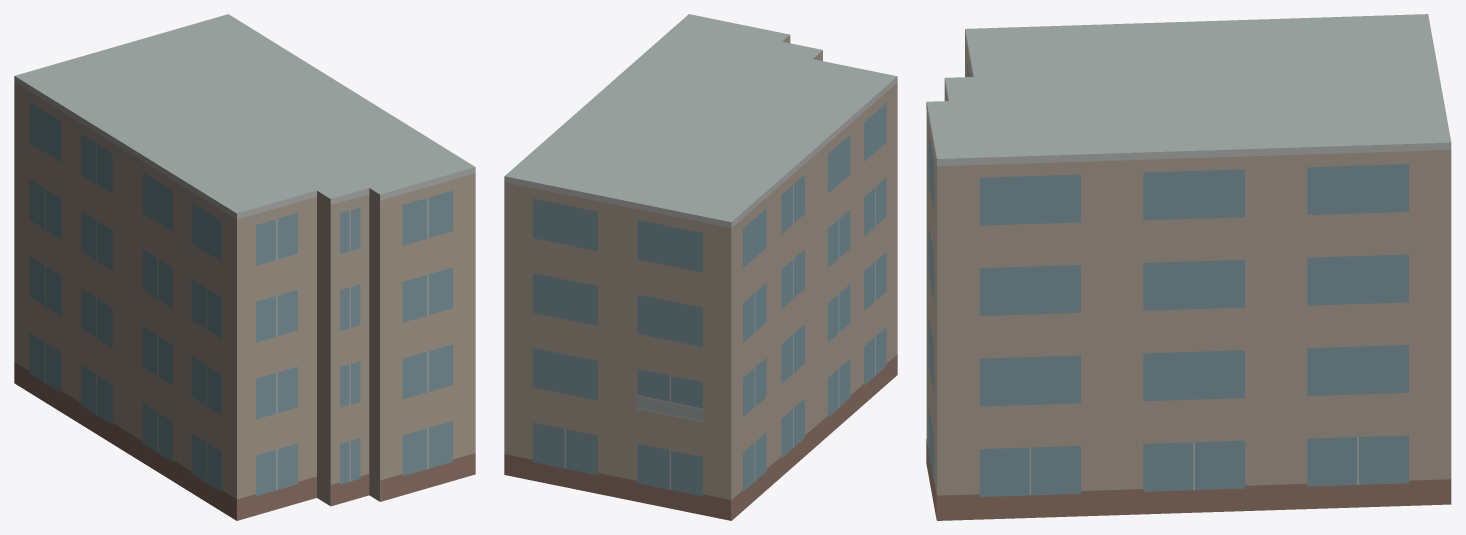
Rendered from survey-upis-32620220.glb.
3 views of the same model, side by side, from view 1: azimuth 30°, elevation 25°; view 2: azimuth 150°, elevation 25°; view 3: azimuth 270°, elevation 25° (orthographic). The views are drawn at different scales.
Visible parts, largest first — view 1: survey-upis-32620220.tmp; view 2: survey-upis-32620220.tmp; view 3: survey-upis-32620220.tmp.
Boxes of the visible parts, x1=… form: survey-upis-32620220.tmp: x1=14, y1=14, x2=475, y2=520; survey-upis-32620220.tmp: x1=504, y1=14, x2=897, y2=520; survey-upis-32620220.tmp: x1=926, y1=14, x2=1451, y2=520.
Bounding box in the file's own units: 10.5 × 12.2 × 16.05.
